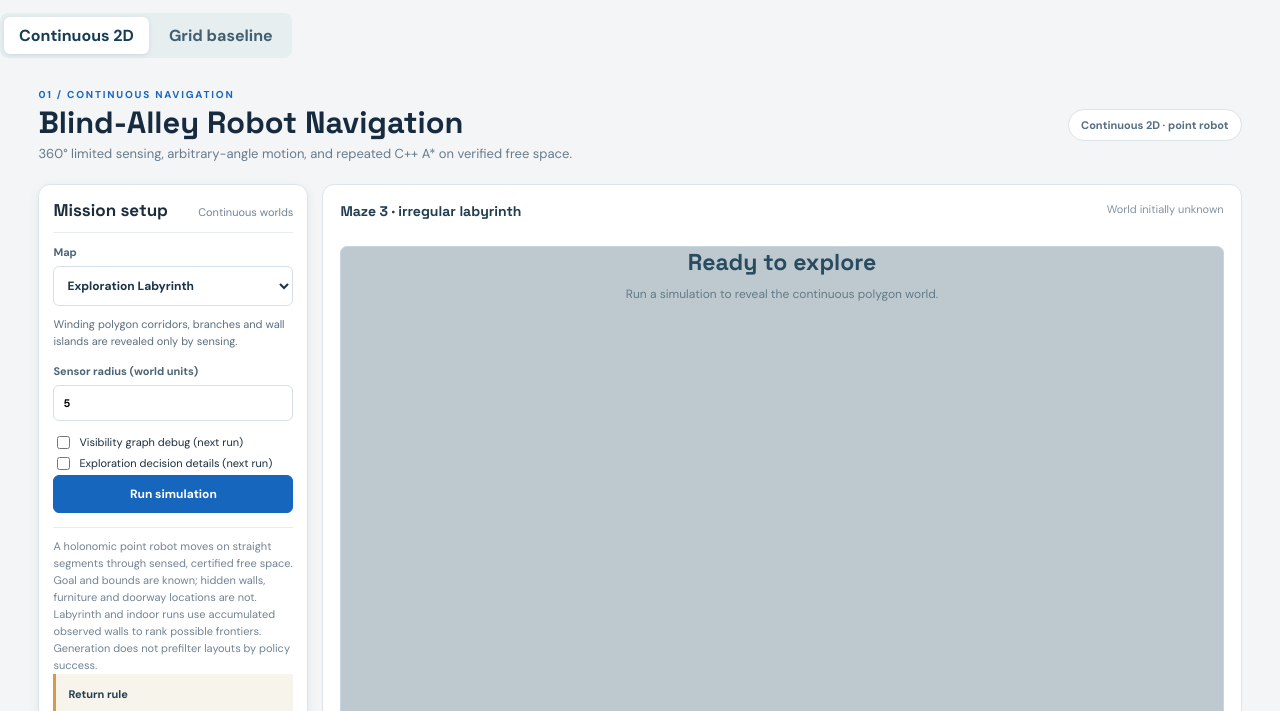
Test: BAR playback › jumps to a recovery without revealing the final outcome early
Click the button "Grid baseline": [221, 36] box 154,17 -> 288,54
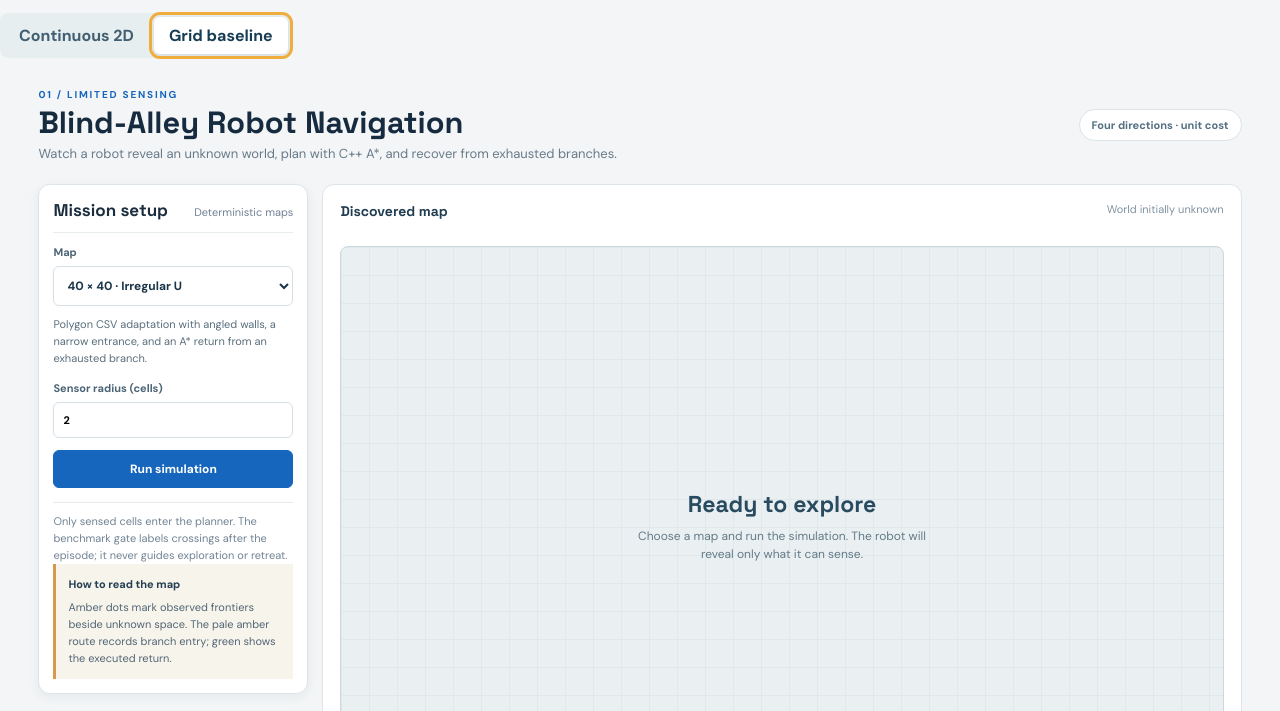
Click the button "Run simulation": [173, 469] box 53,450 -> 293,488
(page scrolled)
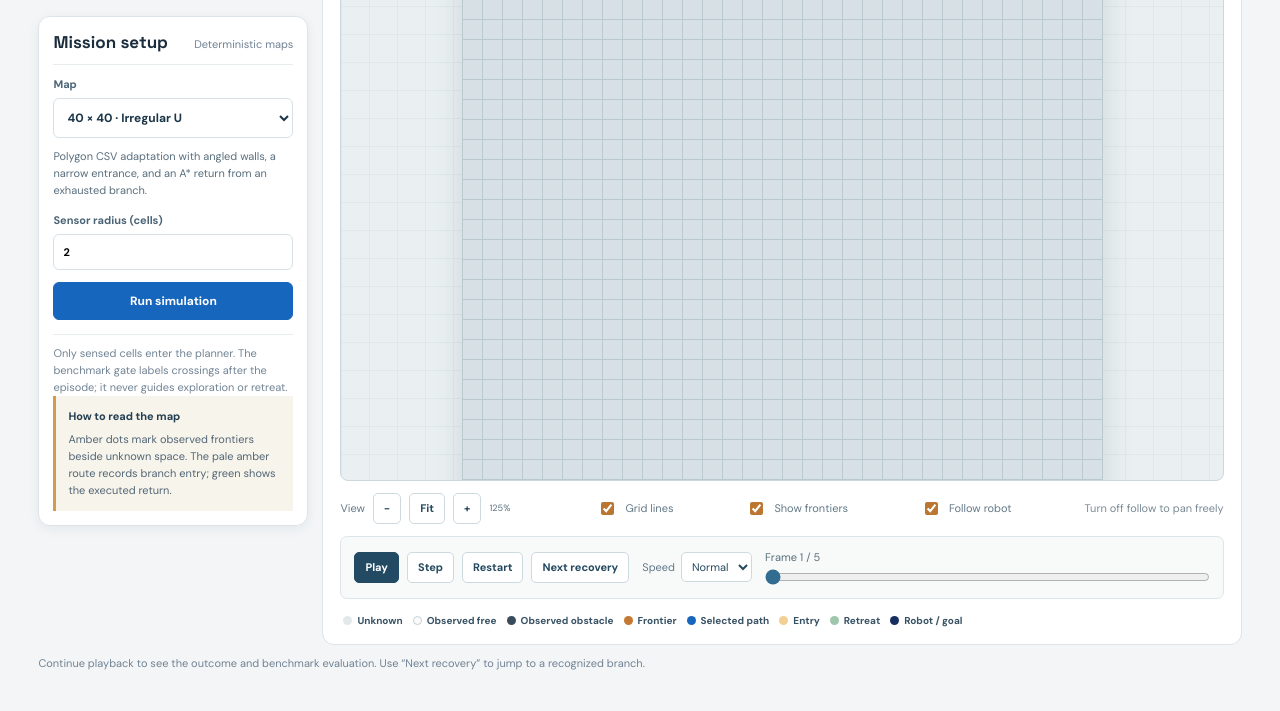
Click the button "Next recovery": [580, 567] box 532,552 -> 629,583
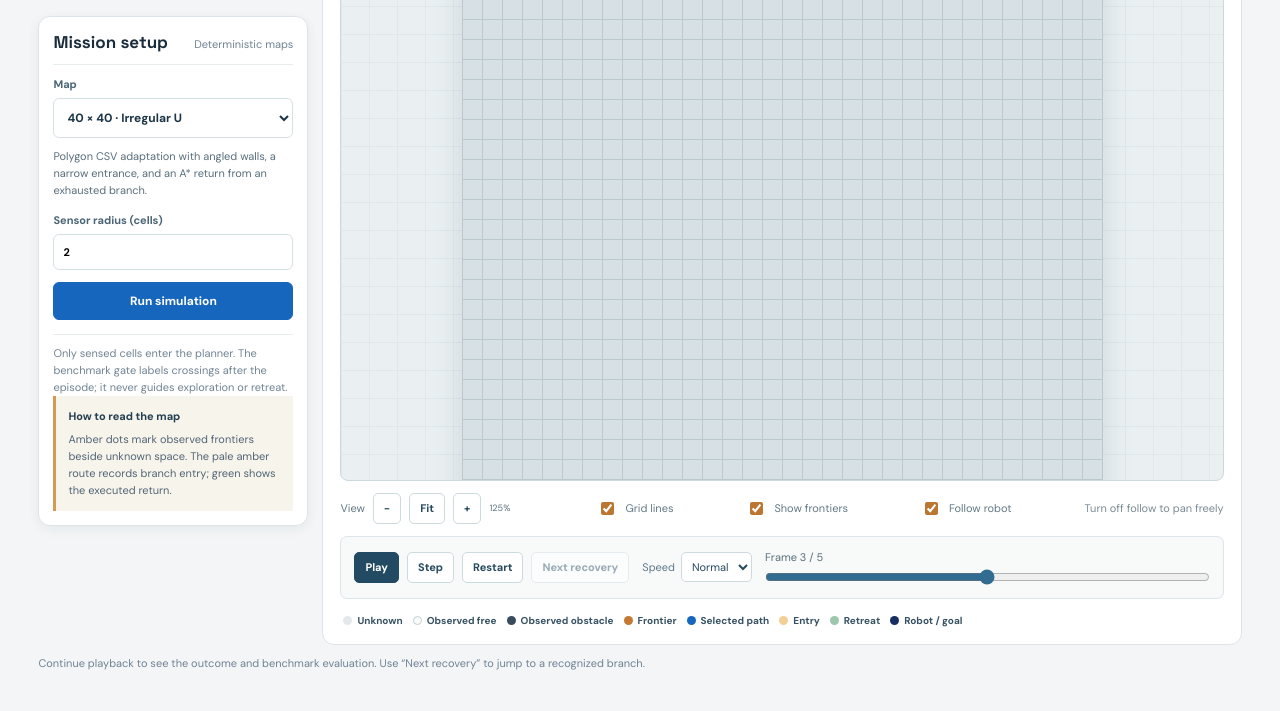
Check: the button named "Zoom in" is enabled
Check: the text "Frame 3 / 5" is shown, box 765,550 -> 1210,585
Click the button named "Zoom in": [467, 508] box 453,493 -> 482,524
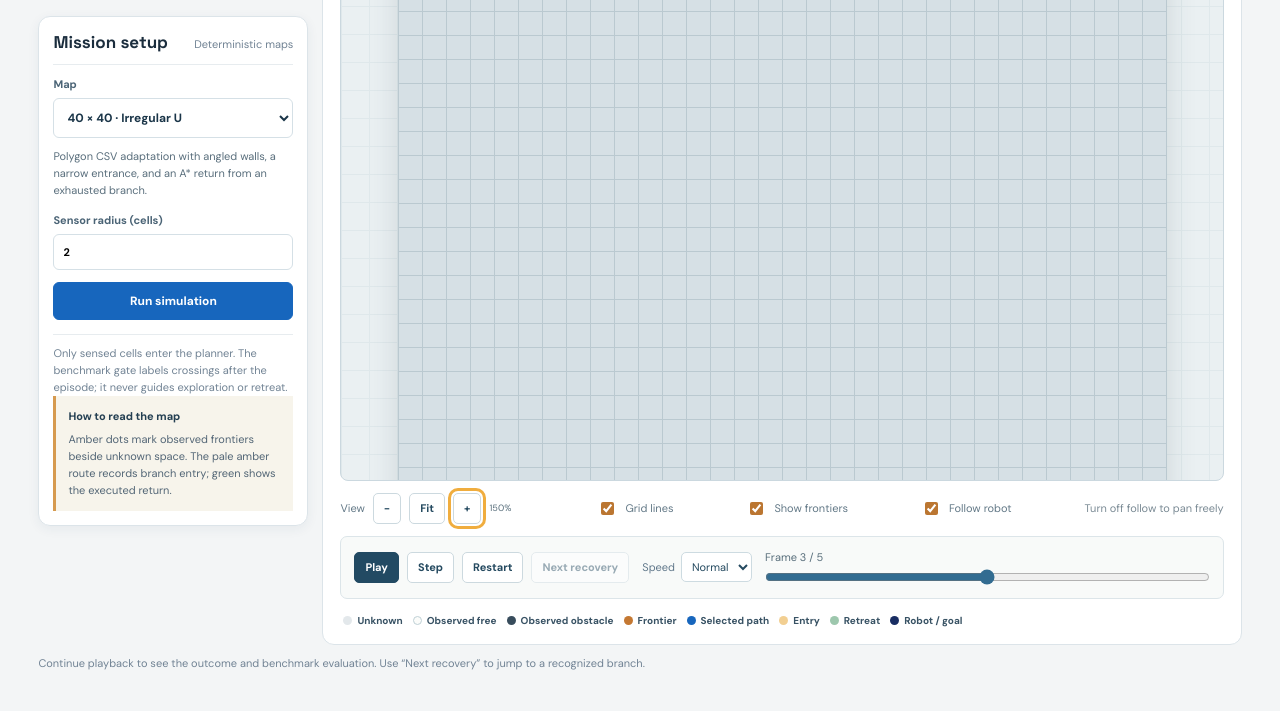
Check: the text "150%" is shown, box 490,502 -> 511,514
